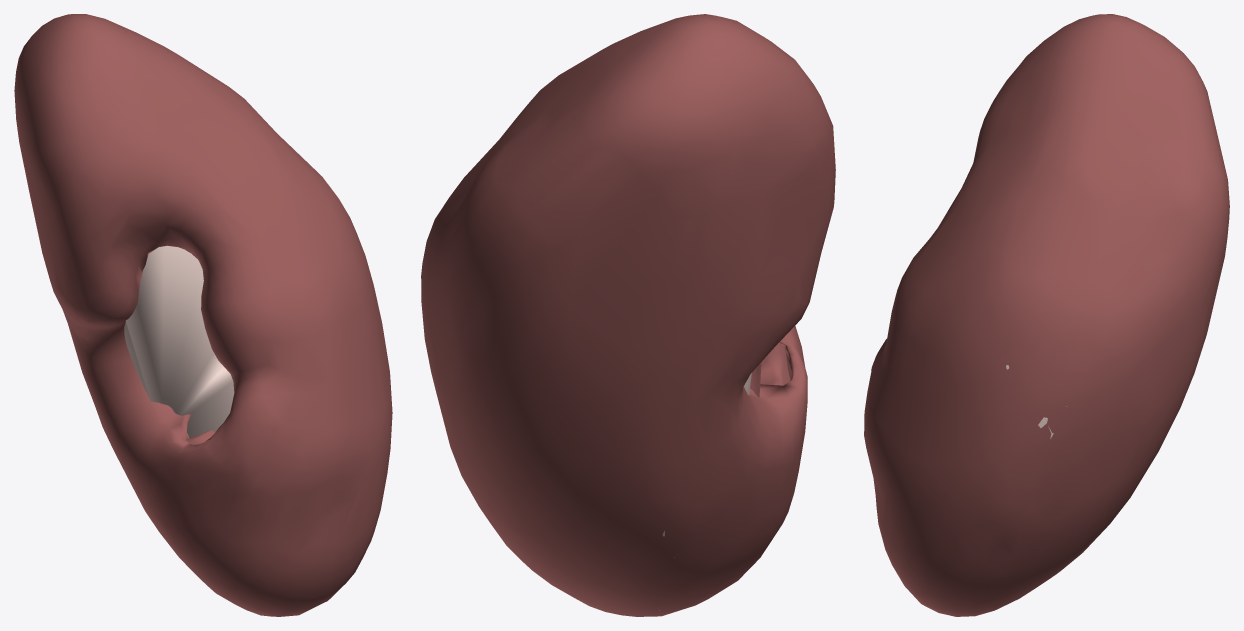
Rendered from vh_f_kidney_l-40.glb.
3 renders of one model, left to right at view 1: azimuth 30°, elevation 25°; view 2: azimuth 150°, elevation 25°; view 3: azimuth 270°, elevation 25°, orthographic. The views are drawn at different scales.
Parts seen in each view (by area): view 1: VH_F_kidney_capsule_L, VH_F_renal_column_L; view 2: VH_F_kidney_capsule_L, VH_F_hilum_of_kidney_L; view 3: VH_F_kidney_capsule_L.
Boxes of the visible parts, x1,y1,x2,y2 form: VH_F_kidney_capsule_L: (14,14,392,616); VH_F_renal_column_L: (124,245,234,438); VH_F_kidney_capsule_L: (421,14,835,616); VH_F_hilum_of_kidney_L: (750,342,790,397); VH_F_kidney_capsule_L: (864,14,1229,616).
Size of the model in its own units: 0.0731 by 0.125 by 0.0776.
